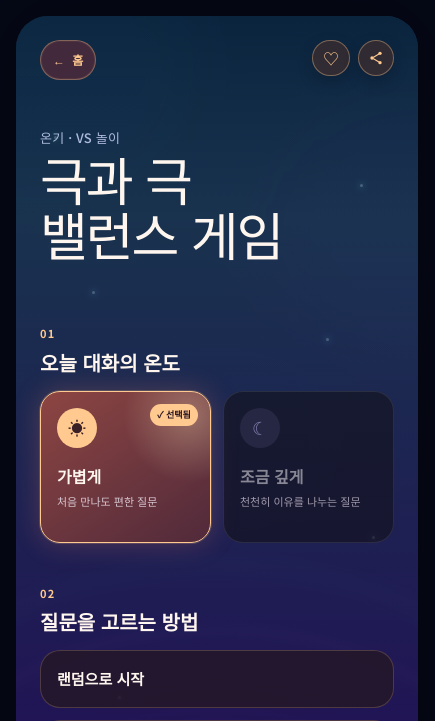
it: 놀이와 도구 링크 공유 › 콘텐츠 좋아요를 추가하고 취소한다
The width and height of the screenshot is (435, 721).
Click the button named "좋아요 추가 · 현재 0개" at point(331, 58), box [312,40,350,76]
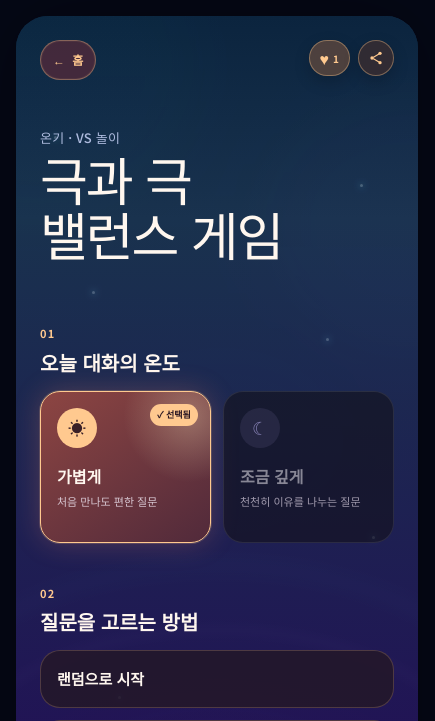
Now the button named "좋아요 취소 · 현재 1개" is shown
Click the button named "좋아요 취소 · 현재 1개" at point(329, 58), box [309,40,350,76]
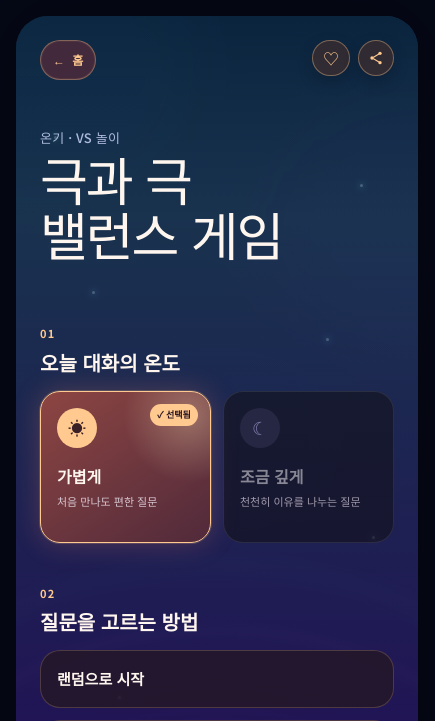
Now the button named "좋아요 추가 · 현재 0개" is shown, box [312,40,350,76]
